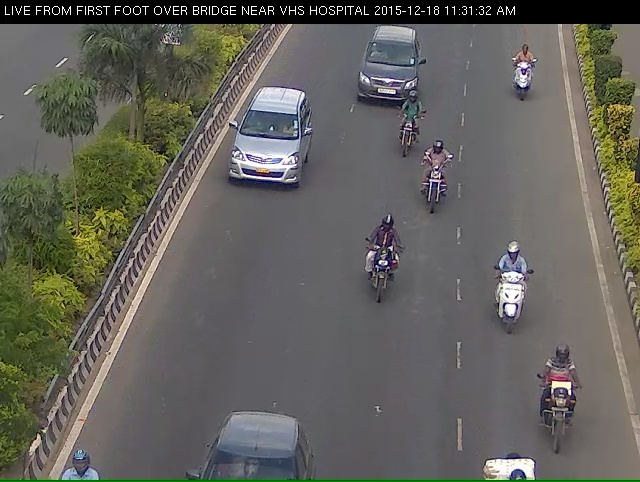Car: (224, 101, 309, 216), (348, 29, 429, 120)
Person: (534, 368, 590, 479), (362, 236, 406, 330), (495, 251, 533, 353), (420, 156, 454, 232), (507, 54, 542, 115), (393, 105, 420, 166)
